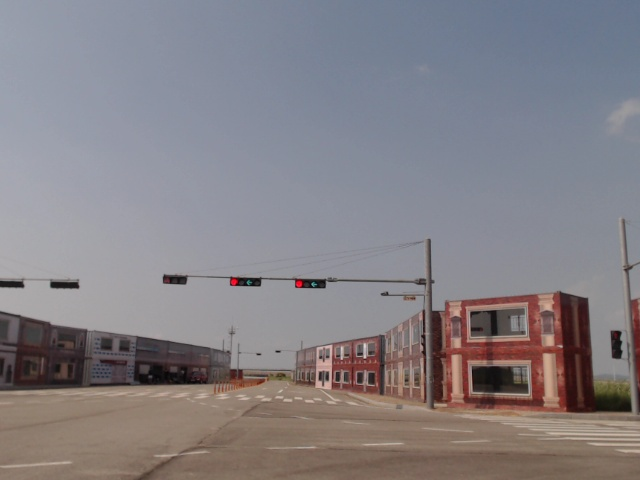left_green_4: (230, 278, 261, 287), (295, 280, 326, 288)
